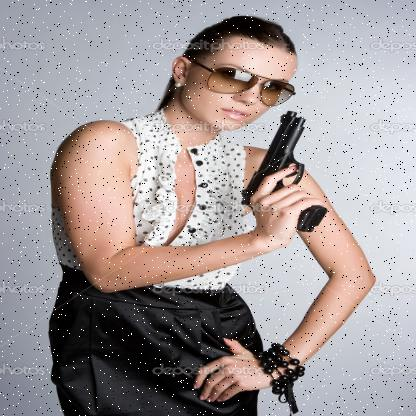pistol: (237, 110, 326, 239)
